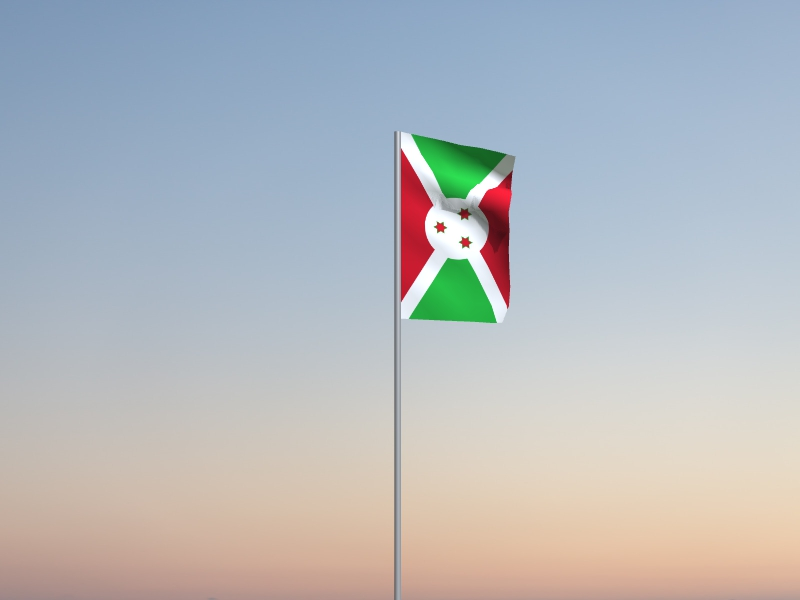bi: (401, 132, 518, 326)
